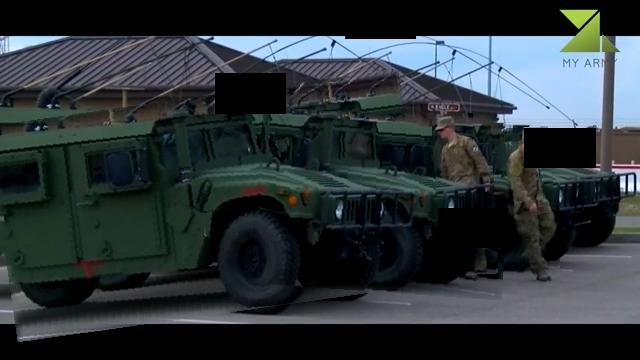MIL_HMMWV: (0, 83, 421, 328), (255, 110, 511, 296), (433, 112, 496, 276), (507, 126, 559, 285)
